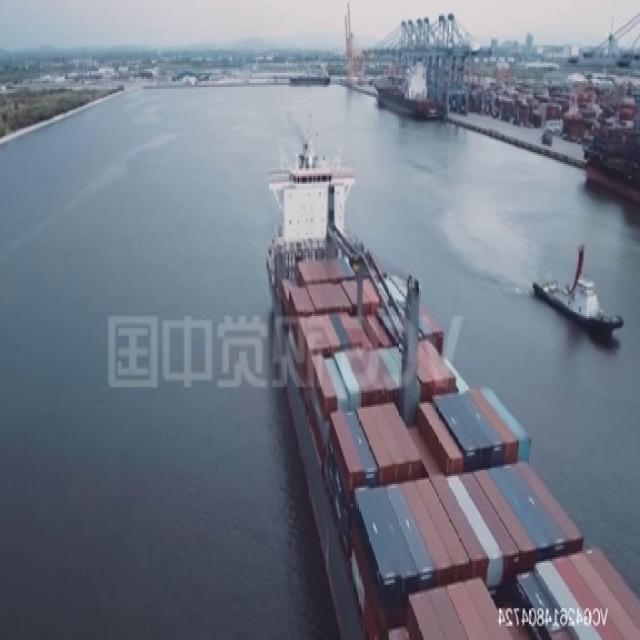cargoship: (268, 132, 640, 640)
houseboat: (530, 241, 624, 336)
